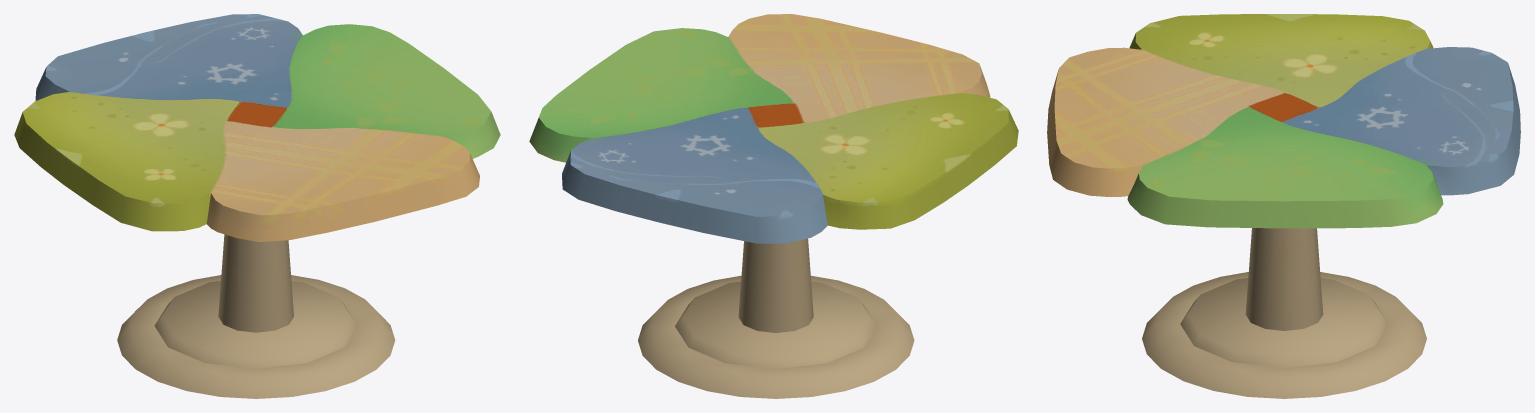
The model's file is Homeworld_Exterior_Common_Table_Nippon_01_Vo.fbx.
3 renders of one model, left to right at view 1: azimuth 30°, elevation 25°; view 2: azimuth 150°, elevation 25°; view 3: azimuth 270°, elevation 25°, orthographic. The views are drawn at different scales.
Visible parts, largest first — view 1: Homeworld_Exterior_Common_Table_Google_01_Vo; view 2: Homeworld_Exterior_Common_Table_Google_01_Vo; view 3: Homeworld_Exterior_Common_Table_Google_01_Vo.
Boxes of the visible parts, box(x1,y1,x2,y2) form: Homeworld_Exterior_Common_Table_Google_01_Vo: box(14, 14, 500, 398); Homeworld_Exterior_Common_Table_Google_01_Vo: box(529, 14, 1018, 398); Homeworld_Exterior_Common_Table_Google_01_Vo: box(1047, 14, 1520, 398).
Size of the model in its own units: 1.38 by 0.7706 by 1.43.
1 material, 1 textured.
